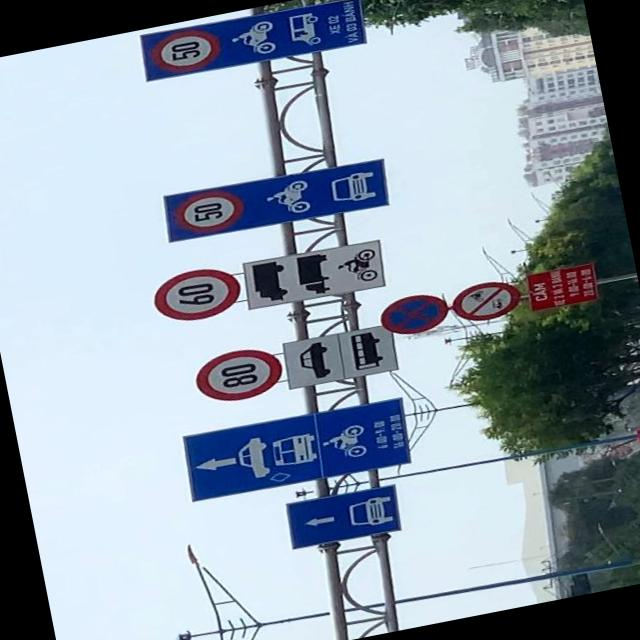P-127: (192, 340, 286, 405), (151, 262, 245, 326)
P-130: (376, 290, 454, 337)
